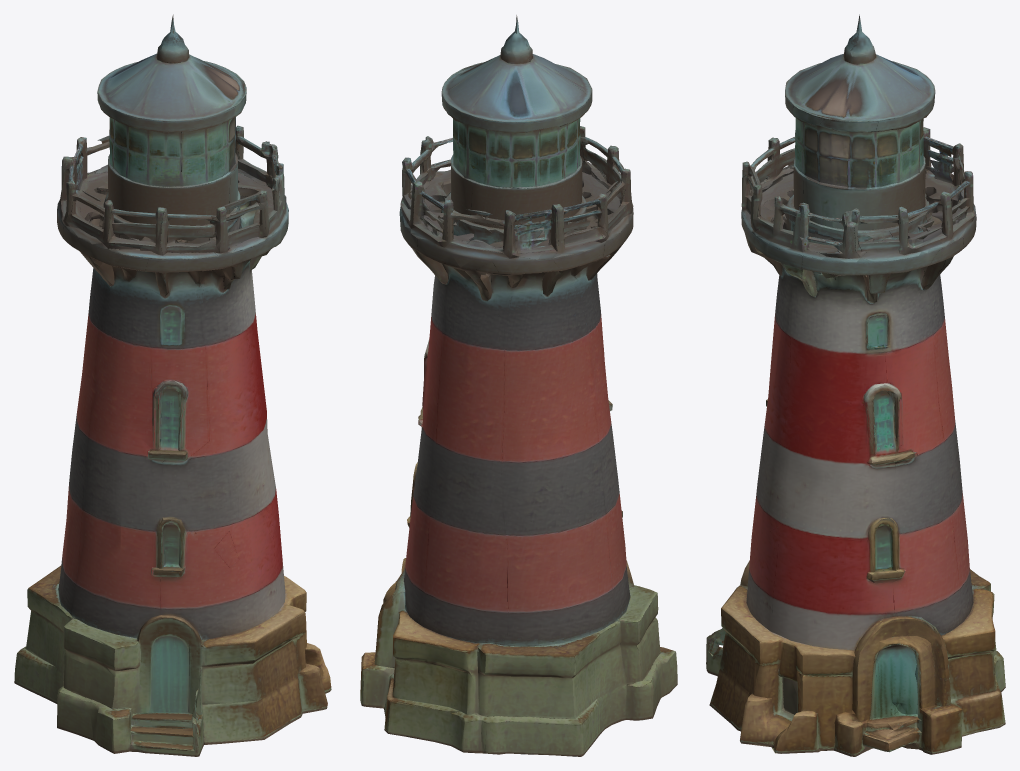
File: hb_lighthouse.glb
3 renders of one model, left to right at view 1: azimuth 30°, elevation 25°; view 2: azimuth 150°, elevation 25°; view 3: azimuth 270°, elevation 25°, orthographic.
Visible parts, largest first — view 1: geometry_0; view 2: geometry_0; view 3: geometry_0.
Part boxes in pixels (x1,y1,x2,y2): geometry_0: (14, 14, 331, 756); geometry_0: (360, 15, 677, 756); geometry_0: (706, 14, 1005, 756).
Size of the model in its own units: 6.31 by 16 by 6.36.
1 material, 1 textured.
